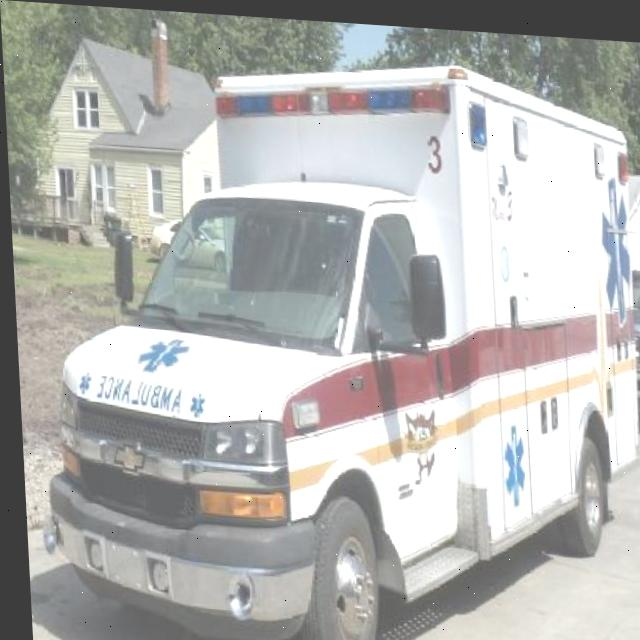emergency: (17, 34, 640, 640)
